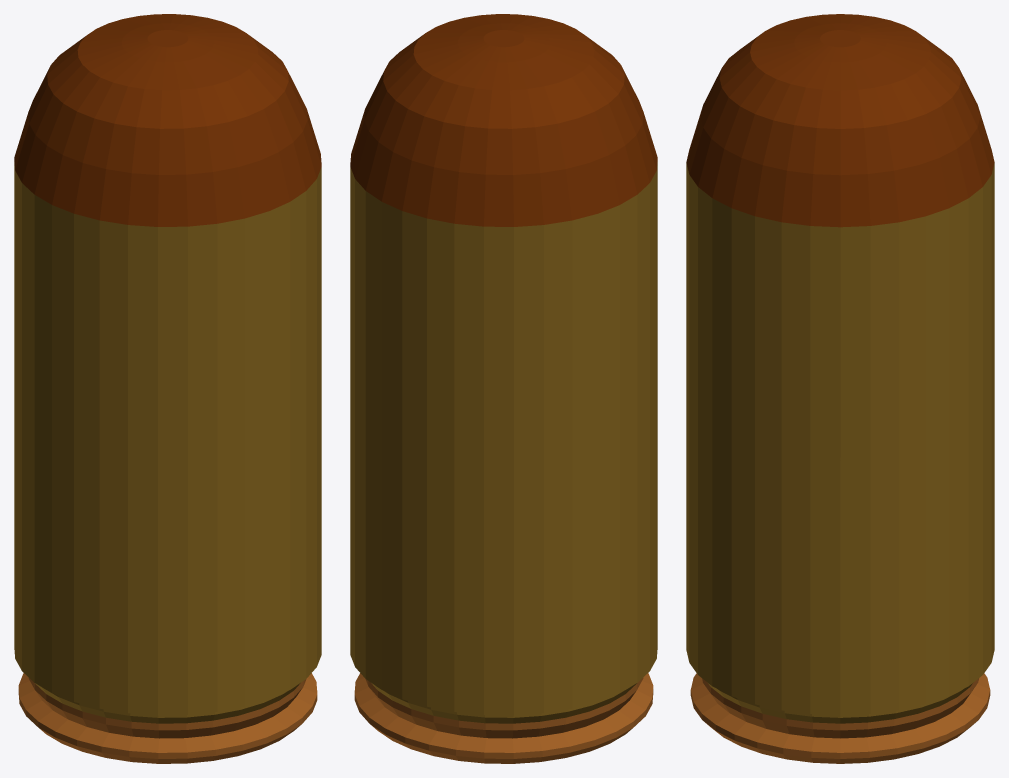
File: Bullet.fbx
3 renders of one model, left to right at view 1: azimuth 30°, elevation 25°; view 2: azimuth 150°, elevation 25°; view 3: azimuth 270°, elevation 25°, orthographic.
Visible parts, largest first — view 1: Cylinder, Cylinder.001, Cylinder.002; view 2: Cylinder, Cylinder.001, Cylinder.002; view 3: Cylinder, Cylinder.001, Cylinder.002.
Part boxes in pixels (x1,y1,x2,y2): Cylinder: (14,162,321,723); Cylinder.001: (14,14,321,226); Cylinder.002: (18,673,317,763); Cylinder: (350,162,657,723); Cylinder.001: (350,14,657,226); Cylinder.002: (354,673,653,763); Cylinder: (686,163,994,723); Cylinder.001: (686,14,994,227); Cylinder.002: (690,673,990,763).
Bounding box in the file's own units: 200 × 480 × 200.
